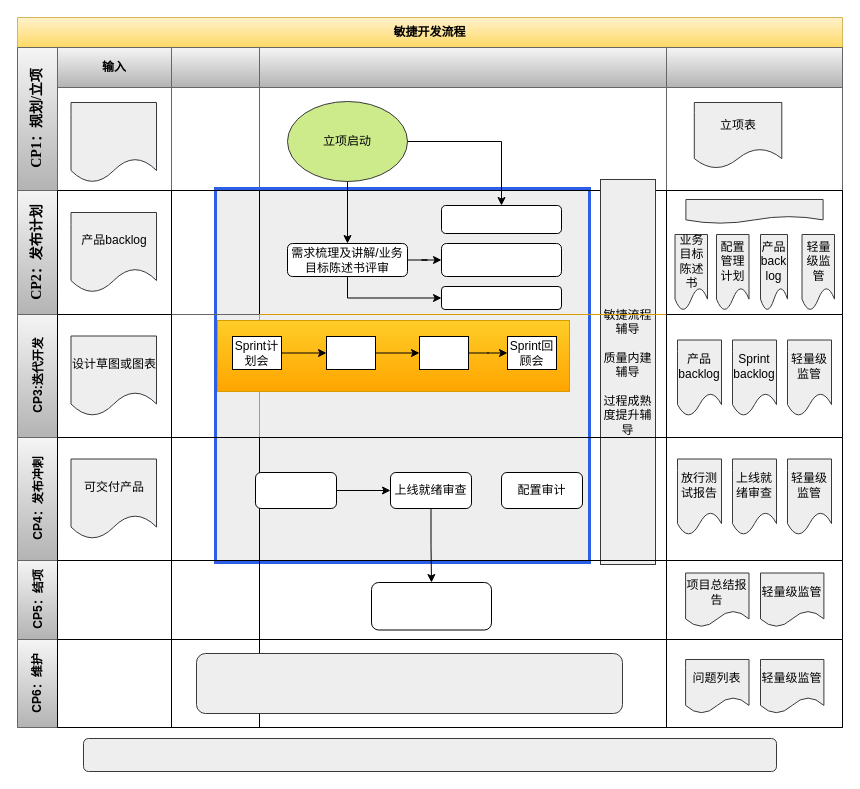
Image size: 860x789. Some labels were removed from this diagram. The box of each missing label's shape, as (x1, y1, x2, y2) in pixels:
Sprint站会: (326, 336, 376, 370)
Sprint评审会: (418, 336, 468, 370)
制定配置管理计划: (440, 286, 562, 310)
合同/用户要求确认表/产品策划书: (70, 102, 156, 182)
备注：底色为橙色表示迭代开发的过程；蓝色线条框的表示一个发布的循环及CP2、CP3、CP4结束后的又一次循环: (82, 738, 776, 772)
定义完成标准（DOD）: (440, 242, 562, 276)
总结报告编制: (370, 582, 492, 630)
放行测试: (254, 472, 336, 508)
维护支撑: (196, 652, 622, 714)
职能: (170, 46, 260, 190)
自定义过程: (685, 198, 823, 224)
输出: (666, 46, 842, 190)
过程自定义: (440, 204, 562, 234)
项目负责人（PO）/产品经理（SM）/敏捷团队: (258, 46, 666, 190)
